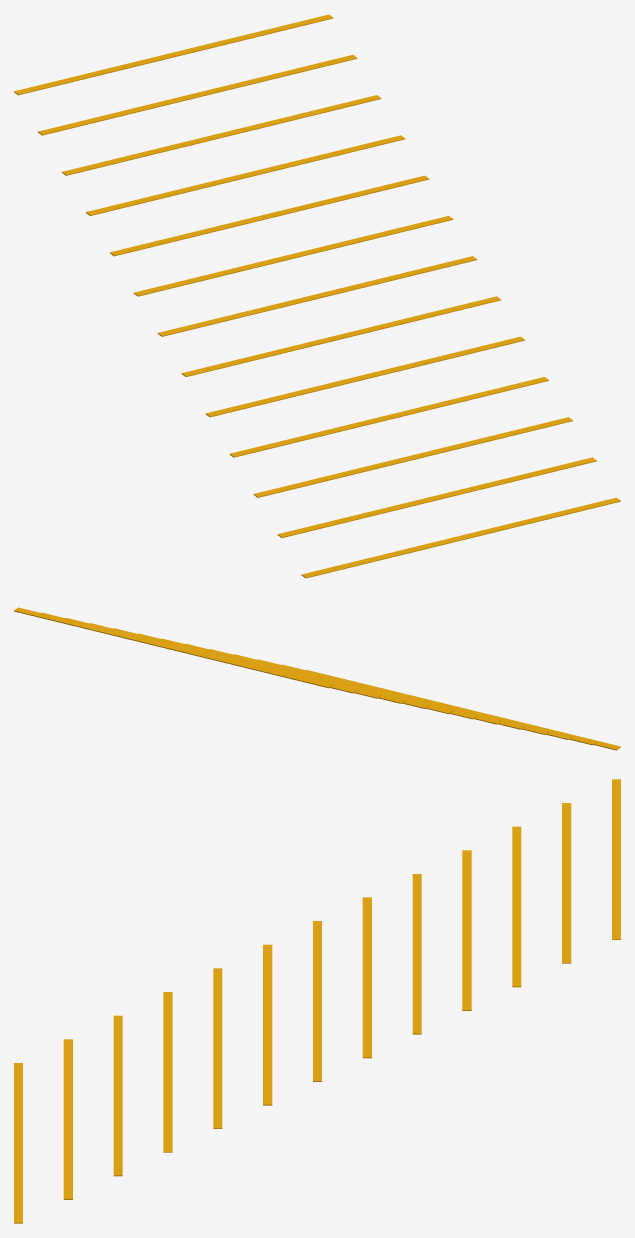
The model's file is gteki_ik_stair_n13_r158_t302_w2309_nosing.glb.
3 views of the same model, one above another, from view 1: azimuth 30°, elevation 25°; view 2: azimuth 150°, elevation 25°; view 3: azimuth 270°, elevation 25° (orthographic). The views are drawn at different scales.
Parts seen in each view (by area): view 1: VIS_body; view 2: VIS_body; view 3: VIS_body.
Boxes of the visible parts, <box> form: VIS_body: <box>14,14,620,578</box>; VIS_body: <box>14,607,620,750</box>; VIS_body: <box>14,779,620,1223</box>.
Size of the model in its own units: 2.29 by 1.9 by 3.68.
Materials: 1 (1 with a texture image).
